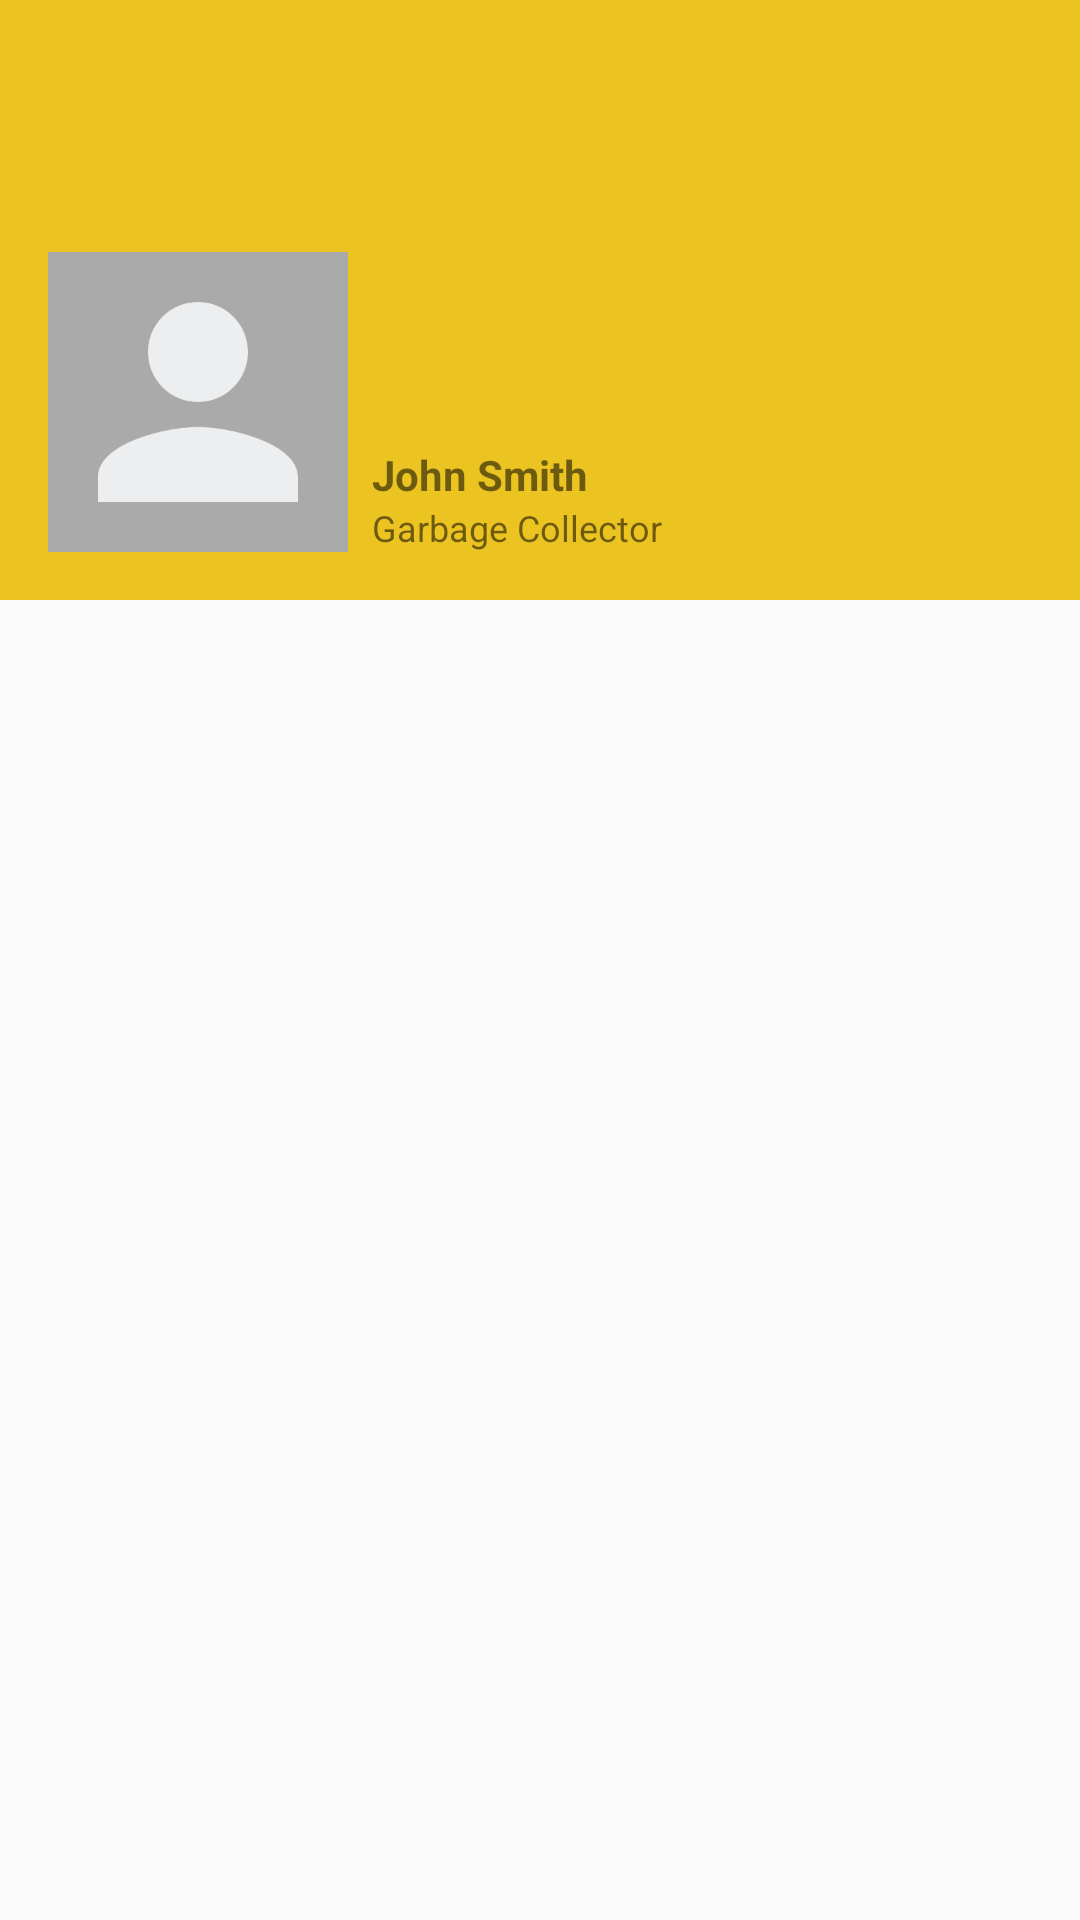

Icon click points for this 1080px×1920px phone screenshot, format [x,y]:
person: [198,402]
